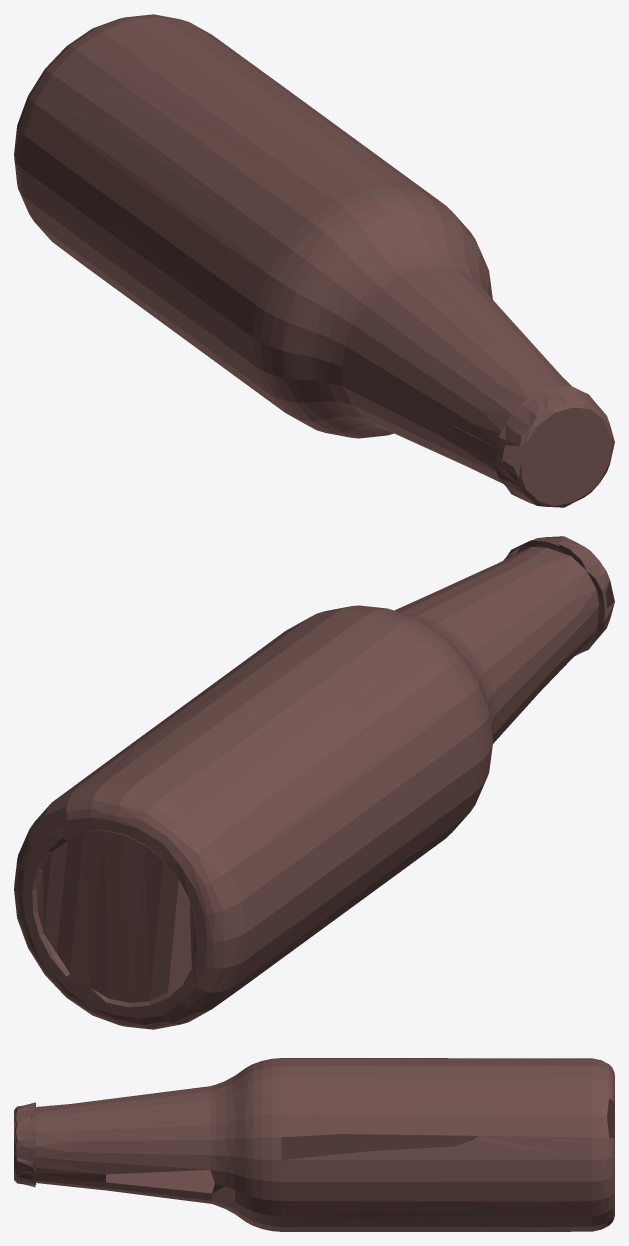
File: model_align.obj
3 renders of one model, top to bottom at view 1: azimuth 30°, elevation 25°; view 2: azimuth 150°, elevation 25°; view 3: azimuth 270°, elevation 25°, orthographic. The views are drawn at different scales.
Bounding box in the file's own units: 0.0558 × 0.0559 × 0.1923.
